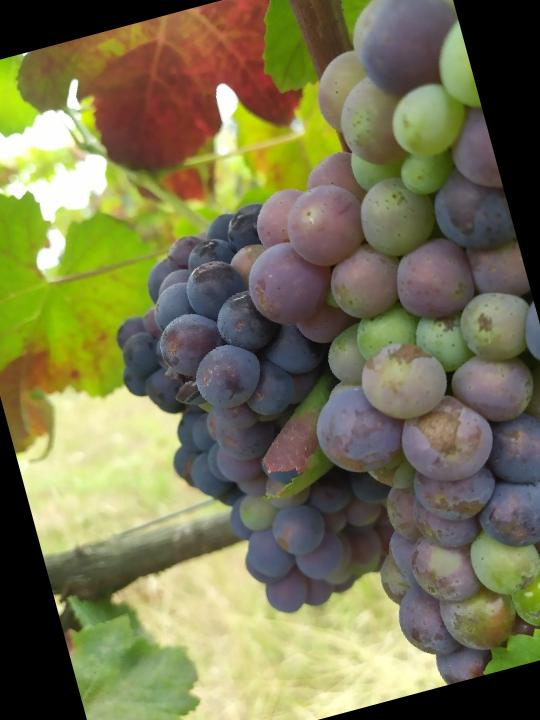grape: (177, 0, 540, 710), (86, 190, 412, 646)
